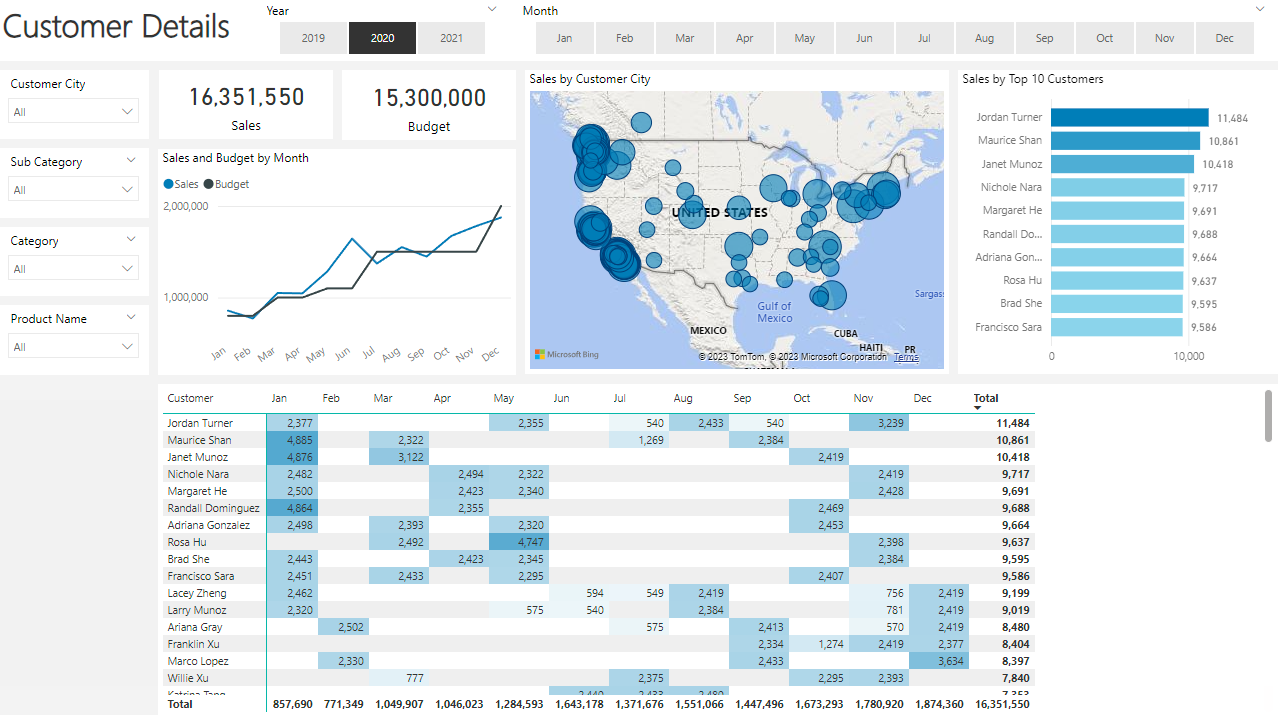

This screenshot's page, from the dashboard's own definition file:
{"tool":"powerbi","page":{"name":"Customer Details","canvas":[1280,720],"ordinal":1},"visuals":[{"type":"textbox","box":[0,0,1280,64],"z":0},{"type":"slicer","fields":{"Values":["DIM_Calendar.Year"]},"box":[256,0,256,64],"z":1000},{"type":"slicer","fields":{"Values":["DIM_Calendar.MonthShort"]},"box":[512,0,768,64],"z":2000},{"type":"slicer","fields":{"Values":["DIM_Customers.Customer City"]},"box":[0,73,150.5,69.3],"z":3000},{"type":"slicer","fields":{"Values":["DIM_Products.Product Category"]},"box":[0,229.9,150.5,69.3],"z":4000},{"type":"slicer","fields":{"Values":["DIM_Products.Product Name"]},"box":[0,308.4,150.5,69.3],"z":5000},{"type":"slicer","fields":{"Values":["DIM_Products.Sub Category"]},"box":[0,151.4,150.5,69.3],"z":6000},{"type":"lineChart","fields":{"Category":["DIM_Calendar.MonthShort"],"Y":["Analysis Metrics.Sales","Analysis Metrics.Budget"]},"box":[159.8,151.8,358.7,226.4],"z":7000},{"type":"card","fields":{"Values":["Analysis Metrics.Sales"]},"box":[160.7,72.8,174,69.2],"z":8000},{"type":"map","fields":{"Category":["DIM_Customers.Customer City"],"Size":["Analysis Metrics.Sales"]},"box":[527.3,72.8,423.5,304.5],"z":9000},{"type":"card","fields":{"Values":["Analysis Metrics.Budget"]},"box":[343.6,72.8,174.9,70.1],"z":10000},{"type":"pivotTable","fields":{"Rows":["DIM_Customers.Full Name"],"Columns":["DIM_Calendar.MonthShort"],"Values":["Analysis Metrics.Sales"]},"box":[159.8,387.1,1120.4,332.9],"z":11000},{"type":"barChart","title":"Sales by Top 10 Customers","fields":{"Category":["DIM_Customers.Full Name"],"Y":["Analysis Metrics.Sales"]},"box":[959.7,72.8,320.5,304.5],"z":12000}]}

Visuals, with their boxes in screenshot pixels (x1, y1, x2, y2), scaled from the page's 1280x720 canvas onto the 1278x715 screenshot:
textbox: {"x1": 0, "y1": 0, "x2": 1277, "y2": 64}
slicer - DIM_Calendar.Year: {"x1": 256, "y1": 0, "x2": 511, "y2": 64}
slicer - DIM_Calendar.MonthShort: {"x1": 511, "y1": 0, "x2": 1277, "y2": 64}
slicer - DIM_Customers.Customer City: {"x1": 0, "y1": 72, "x2": 150, "y2": 141}
slicer - DIM_Products.Product Category: {"x1": 0, "y1": 228, "x2": 150, "y2": 297}
slicer - DIM_Products.Product Name: {"x1": 0, "y1": 306, "x2": 150, "y2": 375}
slicer - DIM_Products.Sub Category: {"x1": 0, "y1": 150, "x2": 150, "y2": 219}
lineChart - DIM_Calendar.MonthShort x Analysis Metrics.Sales: {"x1": 160, "y1": 151, "x2": 518, "y2": 376}
card - Analysis Metrics.Sales: {"x1": 160, "y1": 72, "x2": 334, "y2": 141}
map - DIM_Customers.Customer City x Analysis Metrics.Sales: {"x1": 526, "y1": 72, "x2": 949, "y2": 375}
card - Analysis Metrics.Budget: {"x1": 343, "y1": 72, "x2": 518, "y2": 142}
pivotTable - DIM_Customers.Full Name x DIM_Calendar.MonthShort: {"x1": 160, "y1": 384, "x2": 1277, "y2": 714}
"Sales by Top 10 Customers" barChart: {"x1": 958, "y1": 72, "x2": 1277, "y2": 375}
